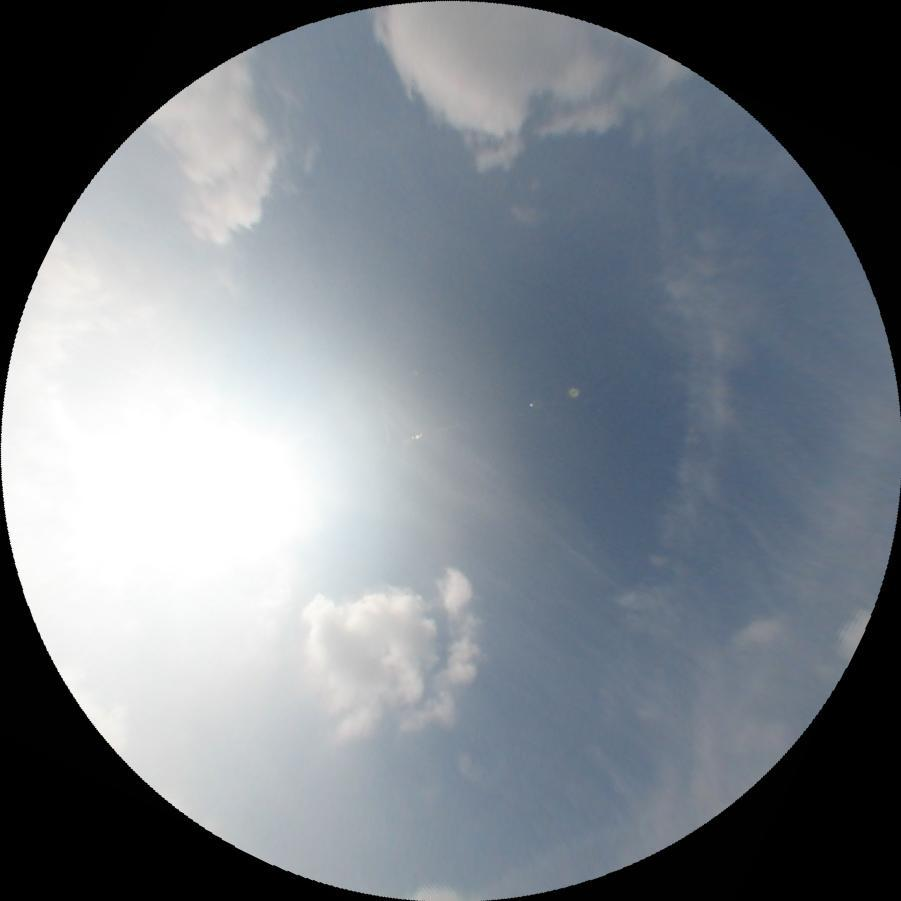contrail veryold: (645, 141, 733, 571)
sun: (87, 378, 340, 621)
